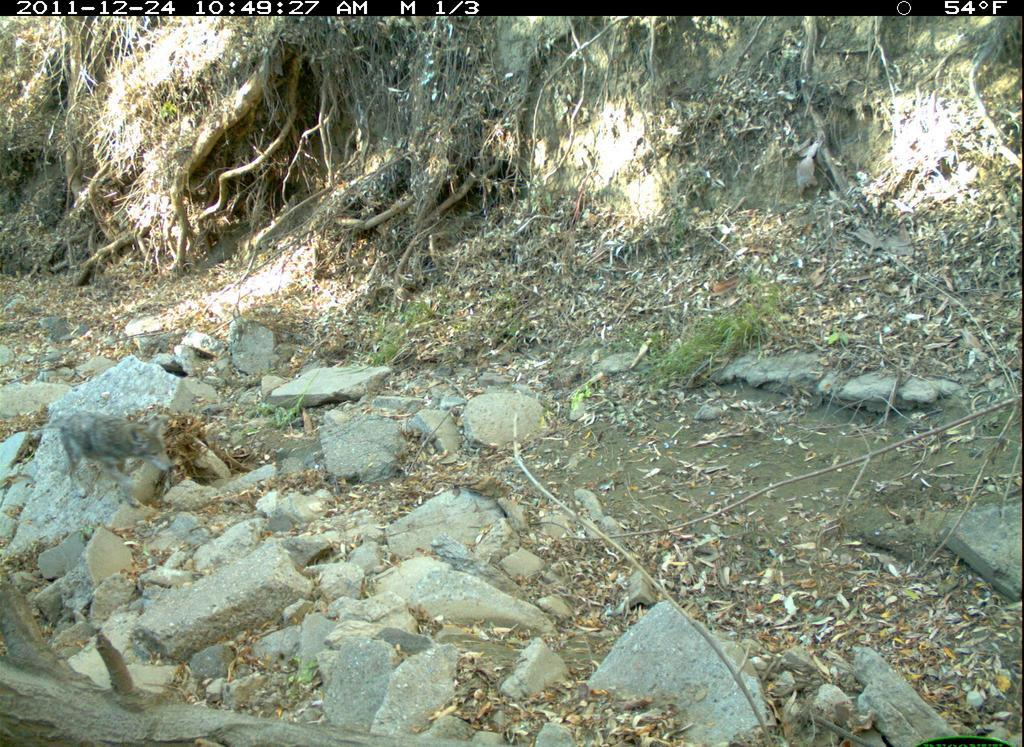coyote: (47, 400, 199, 529)
